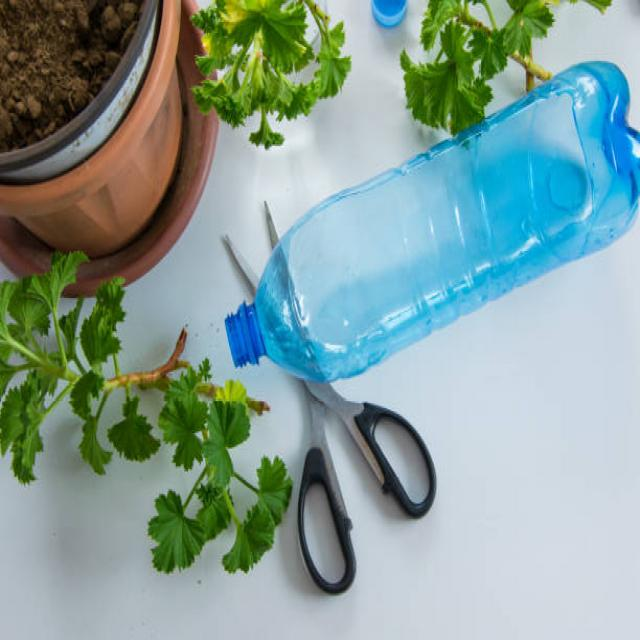plastic: (227, 63, 637, 382)
